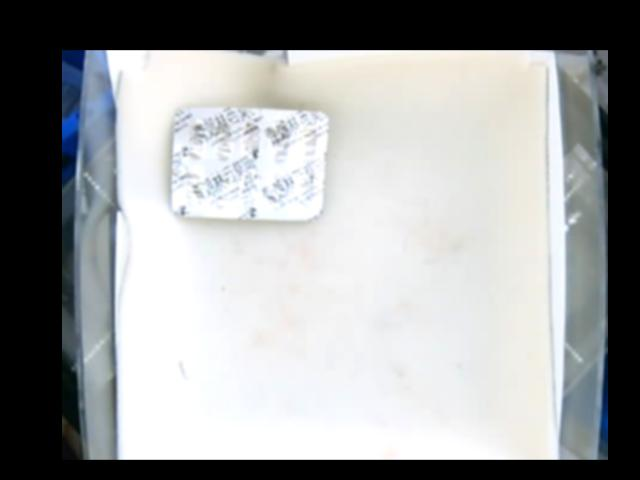Medicine: (168, 104, 330, 219)
